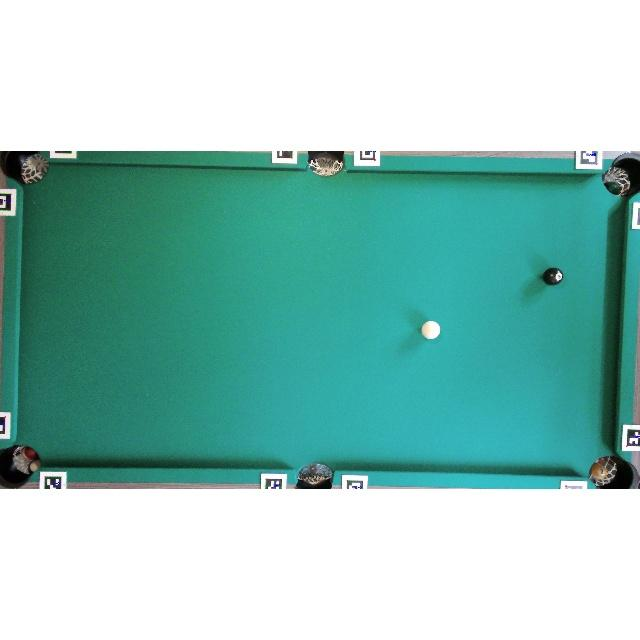cue ball: (421, 320, 441, 340)
other: (542, 267, 564, 285)
